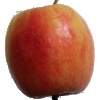apple: (5, 4, 95, 98)
